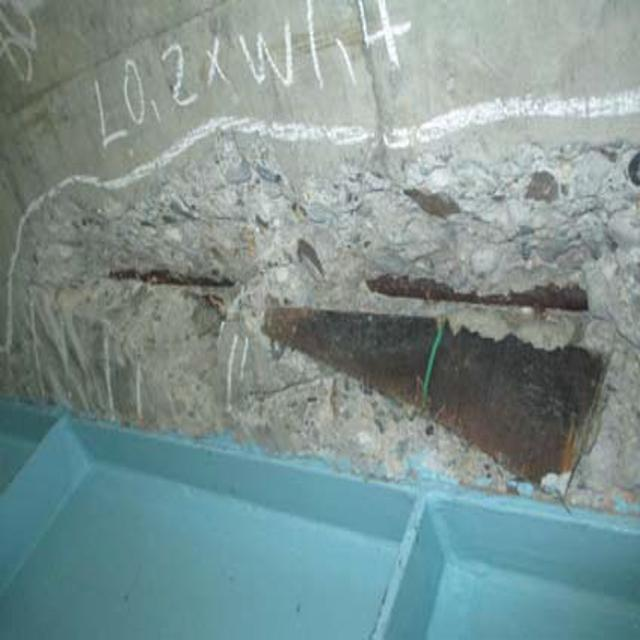spalling: (17, 157, 637, 483)
